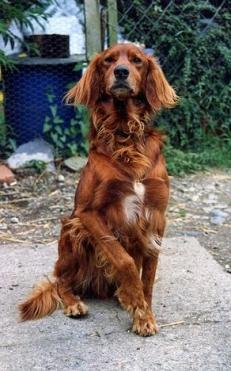Irish_setter: (18, 42, 177, 337)
